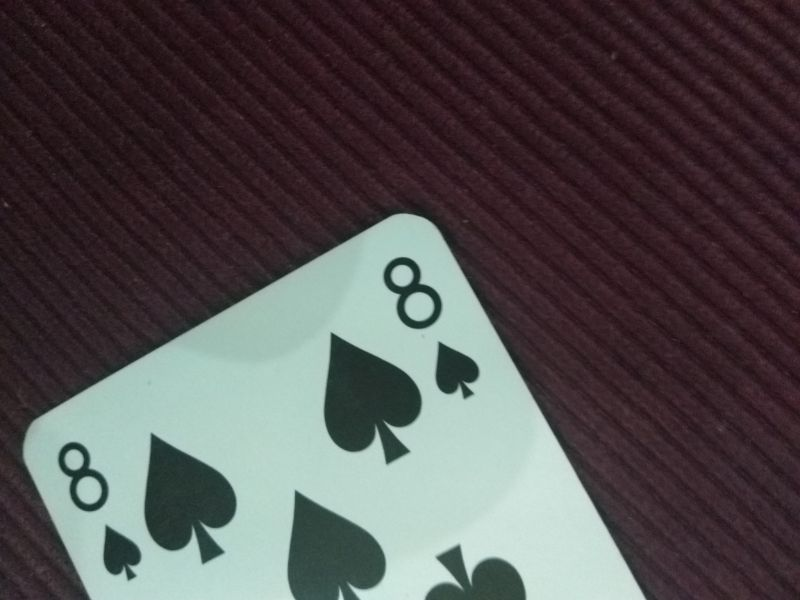8s: (382, 254, 483, 406), (54, 438, 143, 585)
